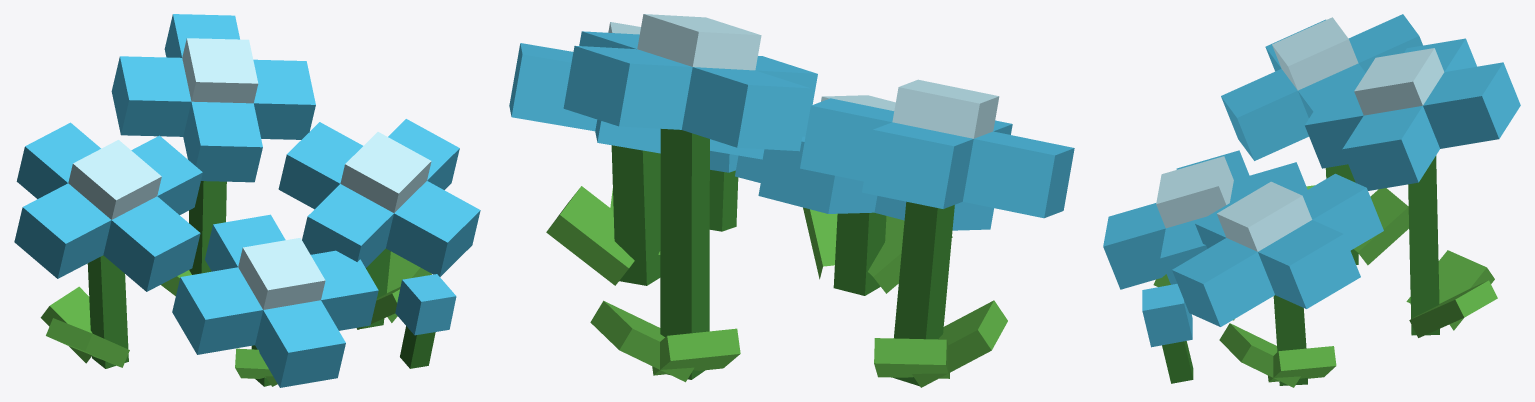
Rendered from Lobby_FlowerBlue.glb.
3 renders of one model, left to right at view 1: azimuth 30°, elevation 25°; view 2: azimuth 150°, elevation 25°; view 3: azimuth 270°, elevation 25°, orthographic. The views are drawn at different scales.
Visible parts, largest first — view 1: FlowerBlue_Petals, FlowerBlue_Centres, FlowerBlue_Stems, FlowerBlue_Leaves; view 2: FlowerBlue_Petals, FlowerBlue_Stems, FlowerBlue_Leaves, FlowerBlue_Centres; view 3: FlowerBlue_Petals, FlowerBlue_Centres, FlowerBlue_Leaves, FlowerBlue_Stems.
Part boxes in pixels (x1,y1,x2,y2): FlowerBlue_Petals: (14, 14, 480, 387); FlowerBlue_Centres: (68, 38, 431, 309); FlowerBlue_Stems: (87, 181, 435, 386); FlowerBlue_Leaves: (40, 251, 431, 386); FlowerBlue_Petals: (509, 31, 1074, 230); FlowerBlue_Stems: (611, 129, 954, 386); FlowerBlue_Leaves: (546, 186, 1007, 387); FlowerBlue_Centres: (608, 14, 999, 138); FlowerBlue_Petals: (1103, 14, 1520, 347); FlowerBlue_Centres: (1156, 17, 1444, 251); FlowerBlue_Leaves: (1153, 185, 1497, 387); FlowerBlue_Stems: (1162, 155, 1439, 385).
Bounding box in the file's own units: 0.5007 × 0.3009 × 0.4119.
